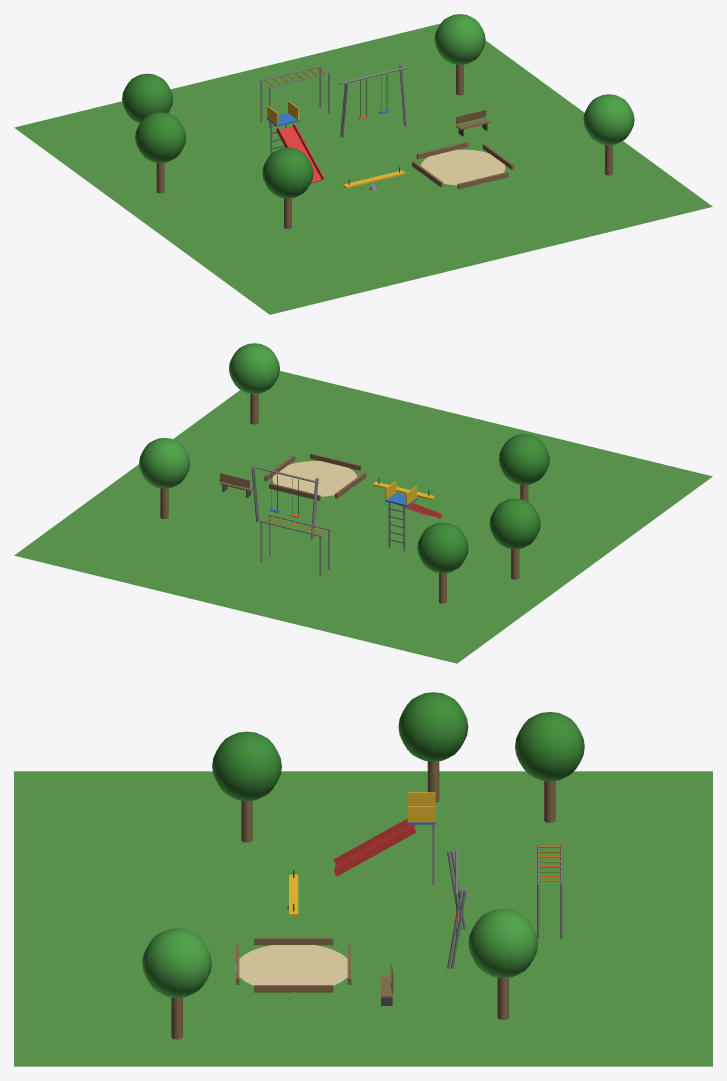
The model's file is Playground.glb.
3 renders of one model, top to bottom at view 1: azimuth 30°, elevation 25°; view 2: azimuth 150°, elevation 25°; view 3: azimuth 270°, elevation 25°, orthographic. The views are drawn at different scales.
Visible parts, largest first — view 1: Playground, Slide, SwingSet, MonkeyBars, Bench; view 2: Playground, Slide, SwingSet, MonkeyBars; view 3: Playground, Slide, SwingSet, MonkeyBars.
Boxes of the visible parts, <box> form: Playground: <box>14,14,712,314</box>; Slide: <box>267,101,323,182</box>; SwingSet: <box>340,64,407,137</box>; MonkeyBars: <box>259,65,330,127</box>; Bench: <box>456,109,489,136</box>; Playground: <box>14,343,712,663</box>; Slide: <box>385,481,441,551</box>; SwingSet: <box>251,465,318,539</box>; MonkeyBars: <box>259,514,330,576</box>; Playground: <box>14,692,712,1066</box>; Slide: <box>333,792,435,884</box>; SwingSet: <box>447,849,466,968</box>; MonkeyBars: <box>537,843,562,939</box>.
Size of the model in its own units: 30 by 5.09 by 30.
